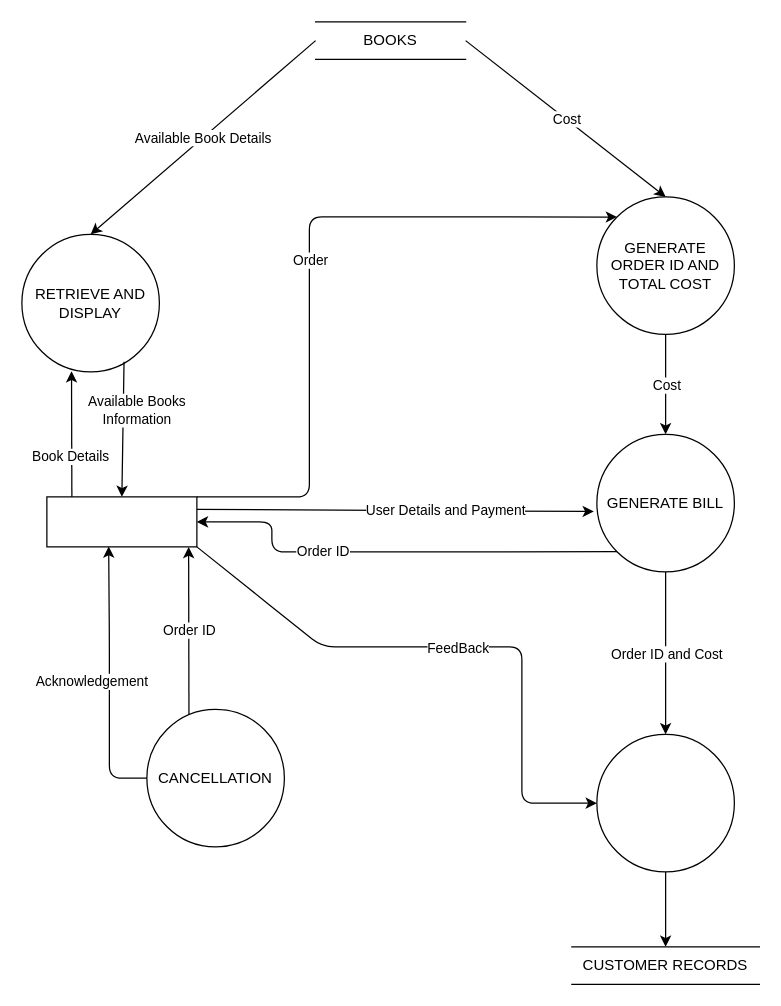
The diagram is 781 pixels wide and 1006 high, and some of its shapes have lost their labels. The shapes that lost their labels are listed below. From the top down, each one's centre as x and y in pixels, then its label:
At pixel 121 521: "CUSTOMER".
At pixel 665 802: "UPDATE DATABASE".
